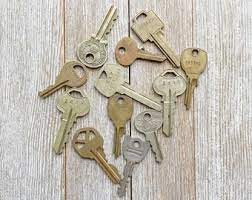key: (31, 3, 216, 194)
